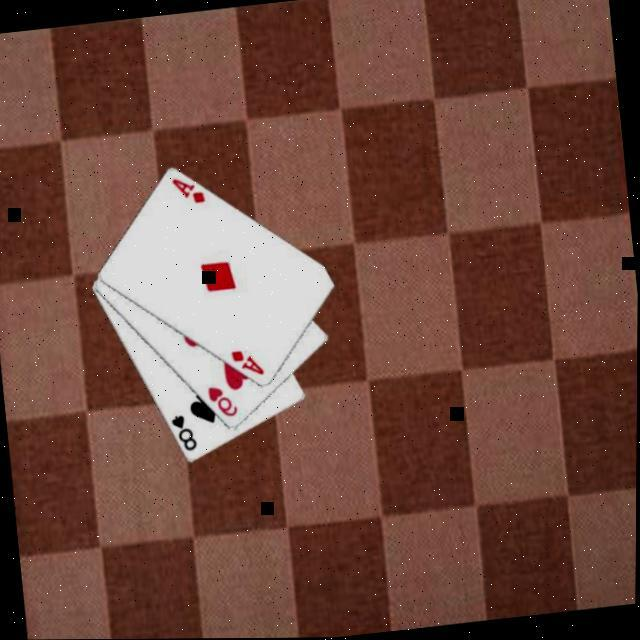6H: (205, 381, 243, 422)
8S: (170, 411, 202, 456)
AD: (230, 346, 270, 382), (171, 173, 210, 209)
